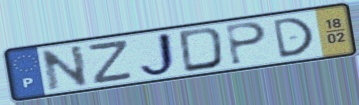D: (176, 25, 225, 75), (271, 15, 316, 61)
J: (137, 30, 182, 78)
N: (38, 43, 91, 92)
P: (223, 20, 269, 67)
Z: (87, 37, 135, 86)
